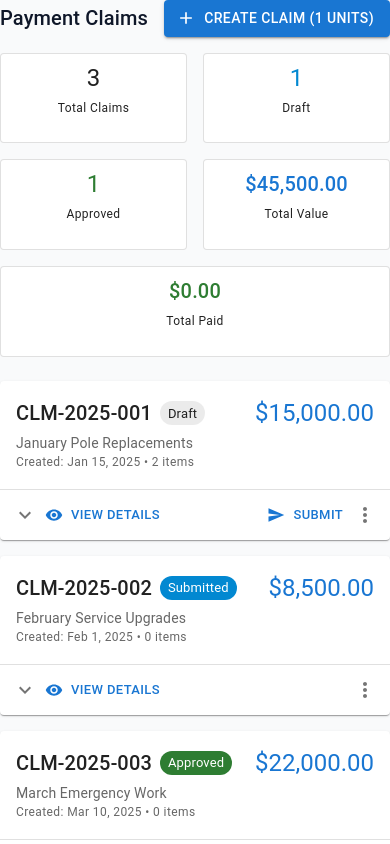
it: ClaimsManagement Component › Create Claim Dialog › should open create dialog when button is clicked
This screenshot has width=390, height=844.
Click the button "Create Claim (1 units)".
click(277, 18)  # box 164,0 -> 389,36
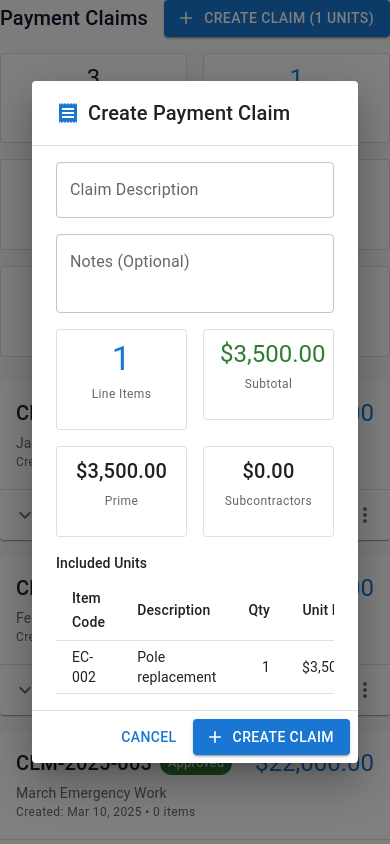
Check: the heading "Create Payment Claim" is shown, box 56,101 -> 290,125
